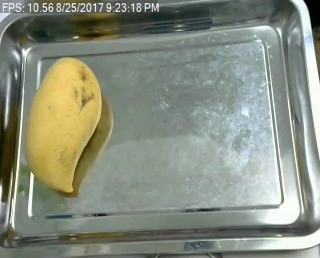Mango: (26, 55, 104, 194)
